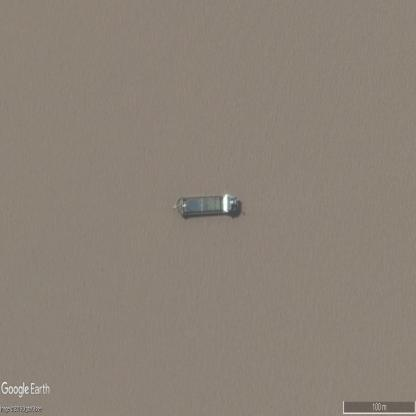ship: (172, 194, 240, 219)
